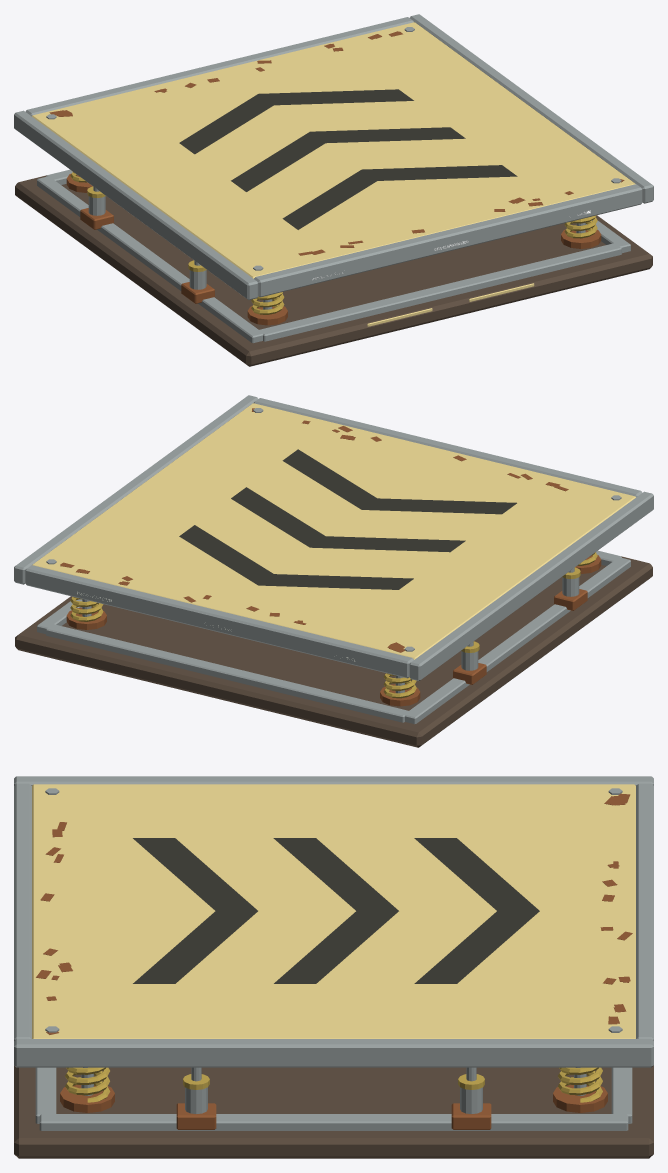
File: JumpPlatform.fbx
3 renders of one model, top to bottom at view 1: azimuth 30°, elevation 25°; view 2: azimuth 150°, elevation 25°; view 3: azimuth 270°, elevation 25°, orthographic. The views are drawn at different scales.
Visible parts, largest first — view 1: JumpPlatform_StaticMesh; view 2: JumpPlatform_StaticMesh; view 3: JumpPlatform_StaticMesh.
Part boxes in pixels (box(x1,y1,x2,y2)): JumpPlatform_StaticMesh: box(14, 14, 653, 366); JumpPlatform_StaticMesh: box(14, 395, 653, 747); JumpPlatform_StaticMesh: box(14, 776, 653, 1158).
Size of the model in its own units: 1000 by 200 by 1000.
